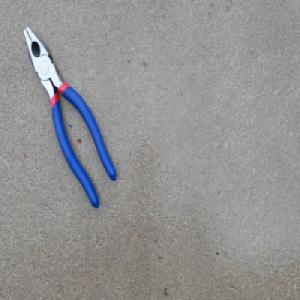Pliers: (22, 22, 117, 209)
